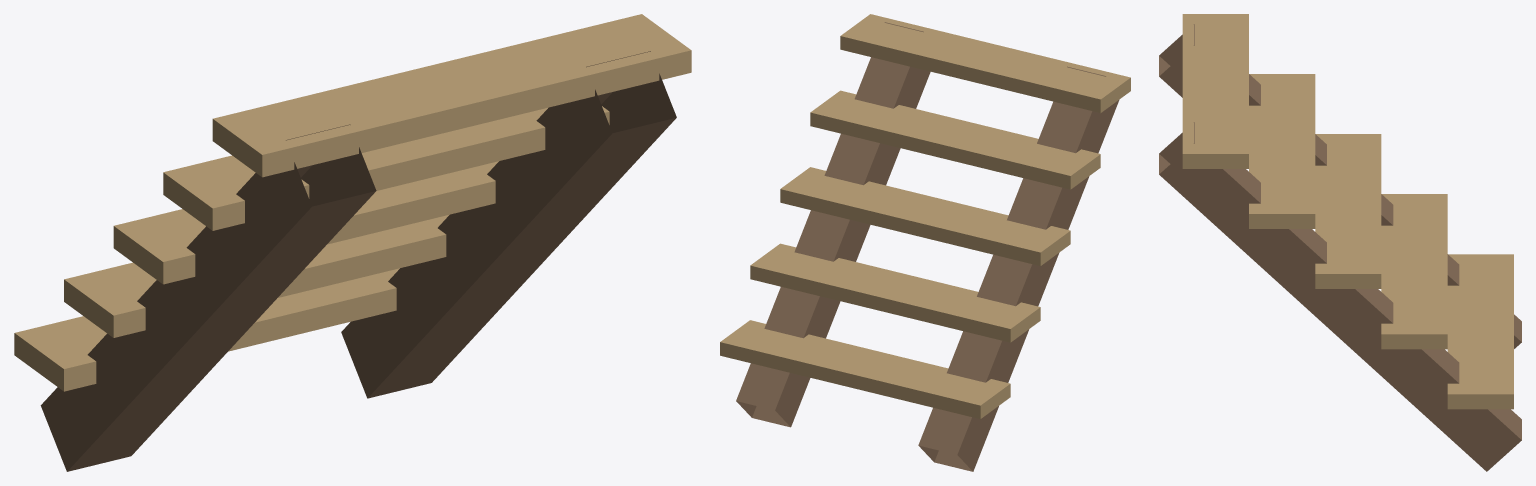
Rendered from Beach_Prop_Docks_Steps.obj.
3 renders of one model, left to right at view 1: azimuth 30°, elevation 25°; view 2: azimuth 150°, elevation 25°; view 3: azimuth 270°, elevation 25°, orthographic. The views are drawn at different scales.
Visible parts, largest first — view 1: object3, object6, object1, object5, object4, object7, object2; view 2: object3, object6, object1, object4, object2, object7, object5; view 3: object6, object1, object2, object4, object5, object7, object3.
Part boxes in pixels (bbox=[...]): object3: bbox=[40, 124, 376, 471]; object6: bbox=[341, 51, 676, 398]; object1: bbox=[212, 14, 691, 177]; object5: bbox=[163, 106, 609, 230]; object4: bbox=[14, 268, 399, 391]; object7: bbox=[113, 161, 498, 284]; object2: bbox=[64, 214, 449, 337]; object3: bbox=[918, 66, 1119, 471]; object6: bbox=[736, 22, 930, 427]; object1: bbox=[840, 14, 1130, 112]; object4: bbox=[720, 320, 1010, 419]; object2: bbox=[750, 243, 1040, 342]; object7: bbox=[780, 167, 1070, 265]; object5: bbox=[810, 90, 1100, 189]; object6: bbox=[1159, 122, 1521, 471]; object1: bbox=[1182, 14, 1248, 168]; object2: bbox=[1381, 194, 1447, 349]; object4: bbox=[1447, 254, 1513, 409]; object5: bbox=[1249, 74, 1315, 228]; object7: bbox=[1315, 134, 1381, 288]; object3: bbox=[1159, 24, 1521, 348].
Size of the model in its own units: 1 by 1.1 by 1.1.
